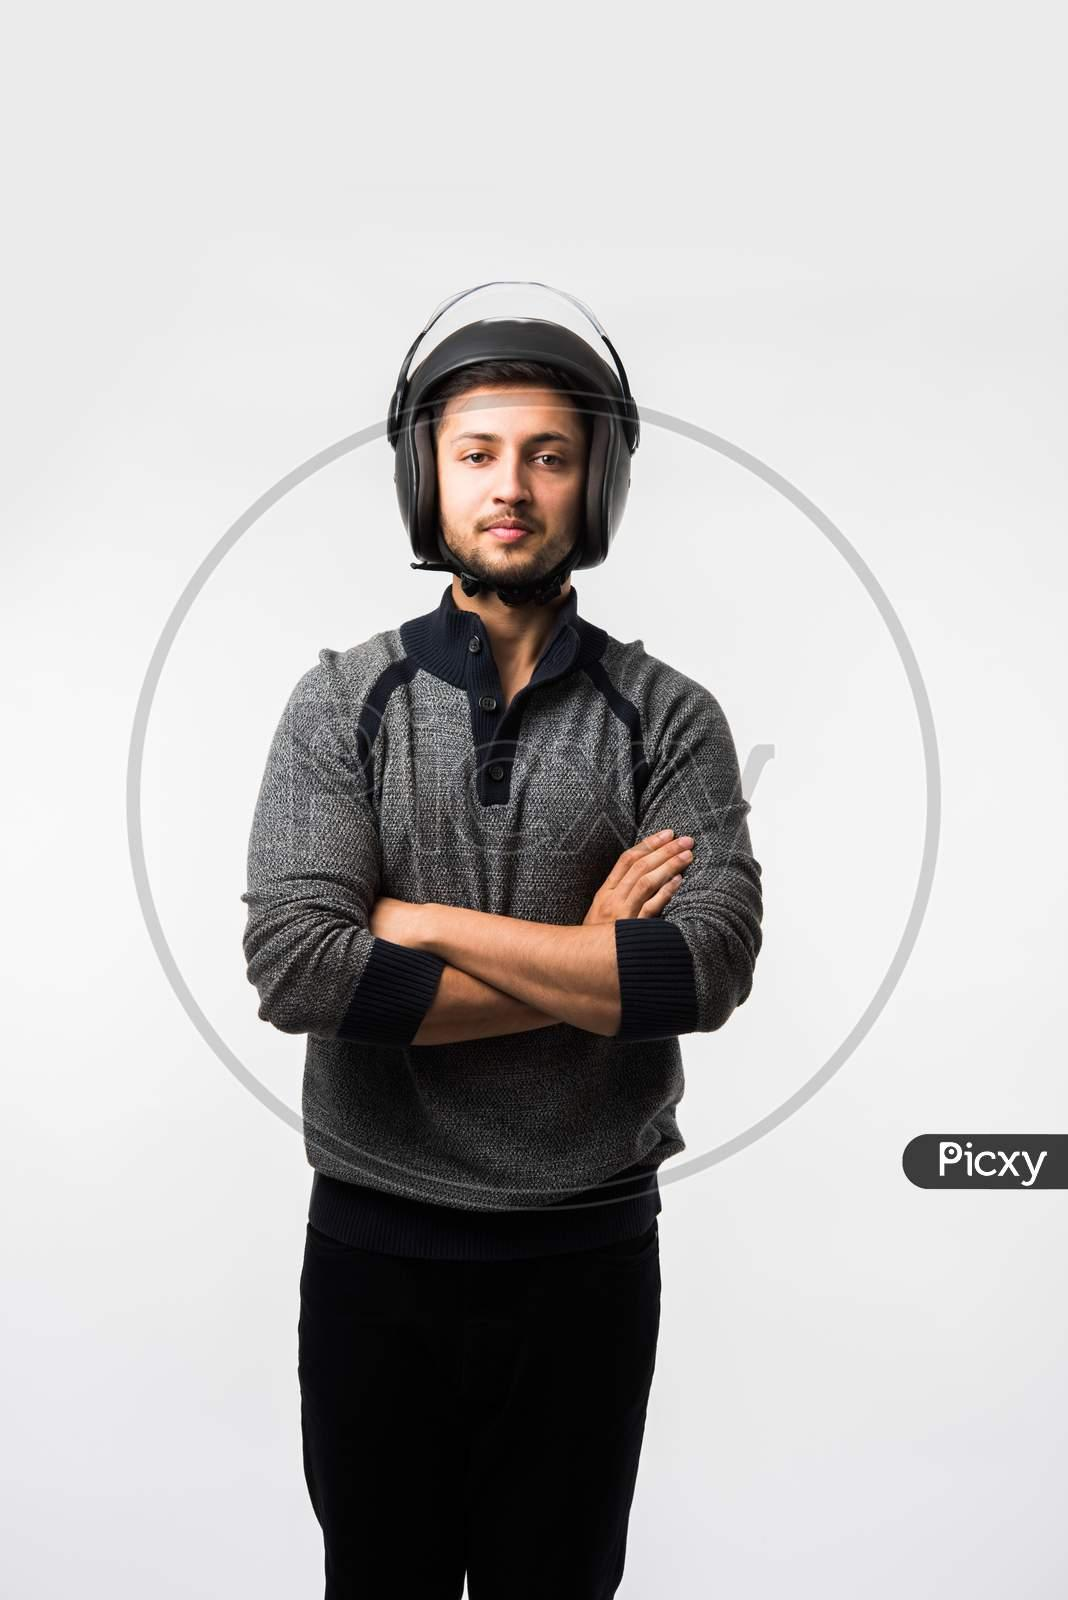Helmet: (386, 279, 641, 569)
